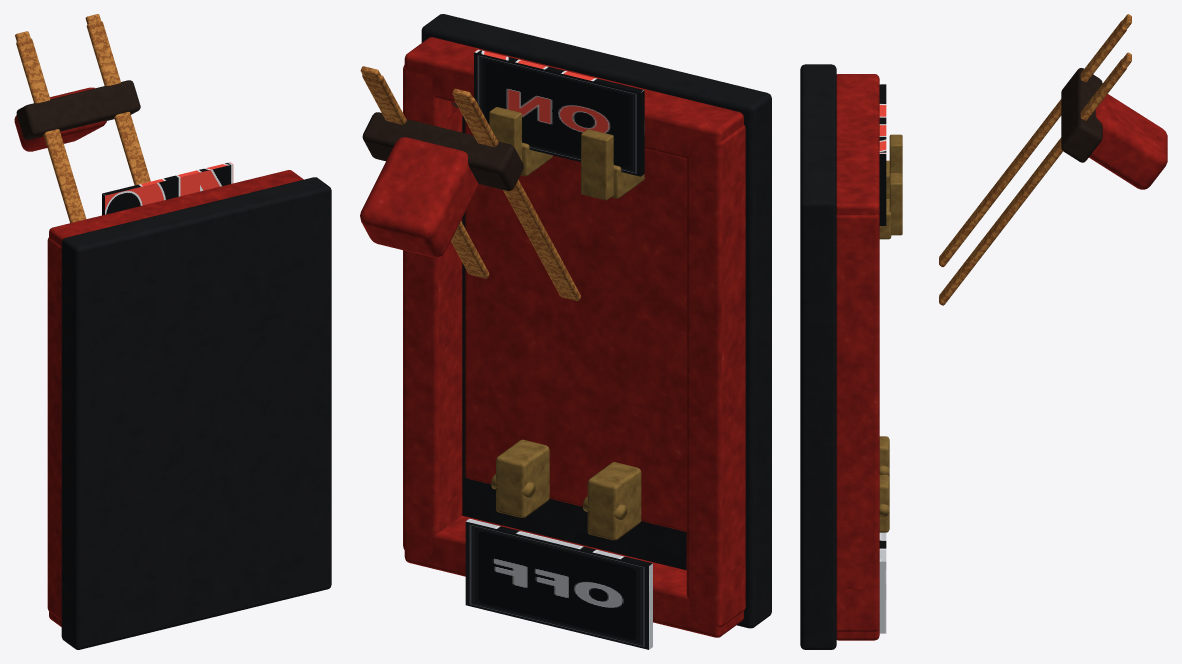
Rendered from KnifeSwitch.fbx.
The picture shows the model from 3 angles, left to right: view 1: azimuth 30°, elevation 25°; view 2: azimuth 150°, elevation 25°; view 3: azimuth 270°, elevation 25°; orthographic projection. The views are drawn at different scales.
Parts seen in each view (by area): view 1: KS_BasePlate, KS_Rail_L, KS_Crossbar, KS_Lip_Top, KS_Label_ON, KS_Blade_L, KS_Blade_R, KS_Handle; view 2: KS_RedBadge, KS_BasePlate, KS_Rail_L, KS_Rail_R, KS_Label_OFF, KS_Label_ON, KS_Handle, KS_Lip_Top, KS_Lip_Bot, KS_Crossbar, KS_Hinge_L, KS_Hinge_R (+5 smaller); view 3: KS_BasePlate, KS_Rail_R, KS_Lip_Top, KS_Handle, KS_Blade_R, KS_Blade_L, KS_Crossbar, KS_Label_ON, KS_JawProng_RA, KS_Label_OFF, KS_JawProng_LA.
Part boxes in pixels (x1,y1,x2,y2): KS_BasePlate: (61,177,331,649); KS_Rail_L: (47,237,61,619); KS_Crossbar: (16,80,140,139); KS_Lip_Top: (49,170,303,246); KS_Label_ON: (102,162,233,215); KS_Blade_L: (16,38,86,223); KS_Blade_R: (86,21,150,185); KS_Handle: (14,87,106,151); KS_RedBadge: (465,120,686,531); KS_BasePlate: (421,14,771,628); KS_Rail_L: (686,125,745,627); KS_Rail_R: (403,65,462,554); KS_Label_OFF: (465,518,652,649); KS_Label_ON: (474,49,644,176); KS_Handle: (360,137,478,257); KS_Lip_Top: (404,37,743,162); KS_Lip_Bot: (404,515,743,637); KS_Crossbar: (362,112,523,190); KS_Hinge_L: (587,462,641,540); KS_Hinge_R: (496,439,549,517); KS_BasePlate: (800,64,836,649); KS_Rail_R: (836,215,879,631); KS_Lip_Top: (836,74,879,215); KS_Handle: (1089,91,1167,189); KS_Blade_R: (939,58,1126,305); KS_Blade_L: (939,20,1126,266); KS_Crossbar: (1061,68,1102,162); KS_Label_ON: (879,84,886,225); KS_JawProng_RA: (889,173,902,235); KS_Label_OFF: (879,532,886,633); KS_JawProng_LA: (889,134,902,173).
Bounding box in the file's own units: 0.2 × 0.3734 × 0.2223.
